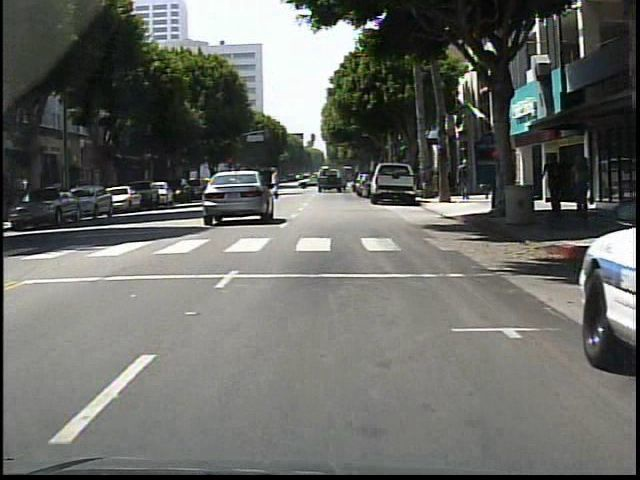person: (569, 152, 590, 221), (541, 153, 564, 213), (459, 156, 476, 199), (271, 167, 286, 201)
